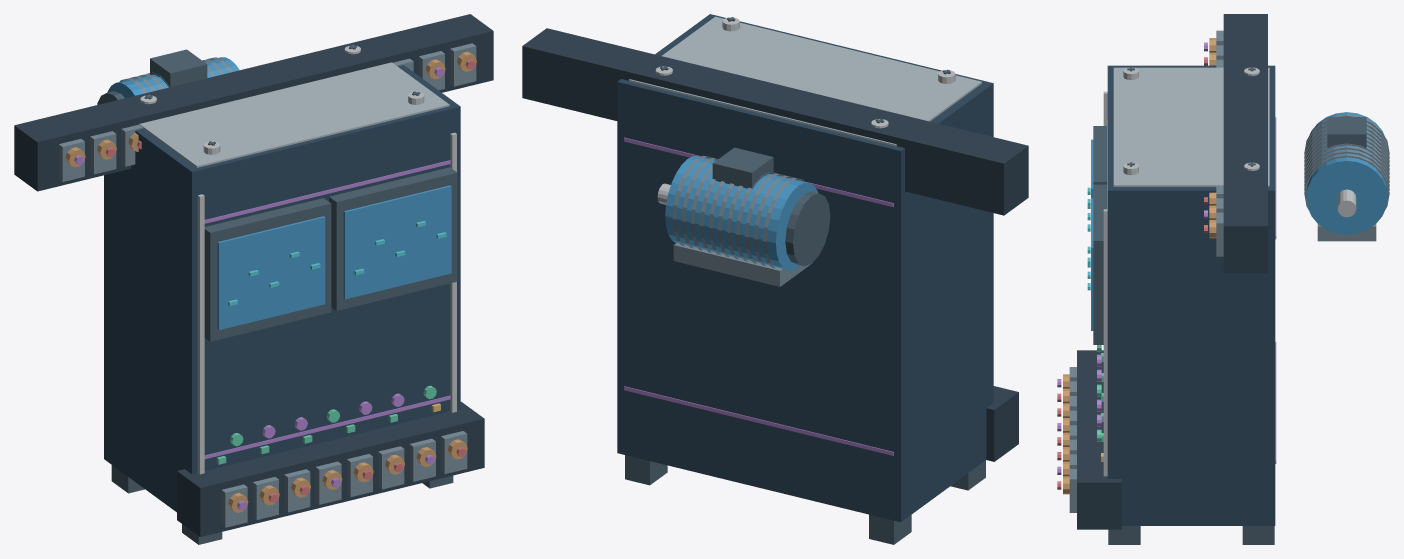
Rendered from 16_L78_CapRFMatchingNetwork.glb.
3 views of the same model, side by side, from view 1: azimuth 30°, elevation 25°; view 2: azimuth 150°, elevation 25°; view 3: azimuth 270°, elevation 25° (orthographic). The views are drawn at different scales.
Parts seen in each view (by area): view 1: CapRFMatchingNetwork_Node_0000, CapRFMatchingNetwork_Node_0007, CapRFMatchingNetwork_Node_0049, CapRFMatchingNetwork_Node_0025, CapRFMatchingNetwork_Node_0080, CapRFMatchingNetwork_Node_0032, CapRFMatchingNetwork_Node_0105, CapRFMatchingNetwork_Node_0024, CapRFMatchingNetwork_Node_0031, CapRFMatchingNetwork_Node_0005, CapRFMatchingNetwork_Node_0145, CapRFMatchingNetwork_Node_0006 (+15 smaller); view 2: CapRFMatchingNetwork_Node_0000, CapRFMatchingNetwork_Node_0080, CapRFMatchingNetwork_Node_0007, CapRFMatchingNetwork_Node_0105, CapRFMatchingNetwork_Node_0130, CapRFMatchingNetwork_Node_0143, CapRFMatchingNetwork_Node_0144, CapRFMatchingNetwork_Node_0049, CapRFMatchingNetwork_Node_0145, CapRFMatchingNetwork_Node_0020, CapRFMatchingNetwork_Node_0045, CapRFMatchingNetwork_Node_0047 (+1 smaller); view 3: CapRFMatchingNetwork_Node_0000, CapRFMatchingNetwork_Node_0007, CapRFMatchingNetwork_Node_0105, CapRFMatchingNetwork_Node_0080, CapRFMatchingNetwork_Node_0049, CapRFMatchingNetwork_Node_0130, CapRFMatchingNetwork_Node_0031, CapRFMatchingNetwork_Node_0006, CapRFMatchingNetwork_Node_0145, CapRFMatchingNetwork_Node_0024, CapRFMatchingNetwork_Node_0144, CapRFMatchingNetwork_Node_0047 (+3 smaller).
Boxes of the visible parts, x1,y1,x2,y2 form: CapRFMatchingNetwork_Node_0000: (104, 65, 460, 512); CapRFMatchingNetwork_Node_0007: (139, 62, 449, 167); CapRFMatchingNetwork_Node_0049: (177, 401, 484, 536); CapRFMatchingNetwork_Node_0025: (217, 216, 325, 329); CapRFMatchingNetwork_Node_0080: (14, 70, 321, 191); CapRFMatchingNetwork_Node_0032: (343, 185, 451, 299); CapRFMatchingNetwork_Node_0105: (186, 14, 493, 106); CapRFMatchingNetwork_Node_0024: (204, 198, 331, 341); CapRFMatchingNetwork_Node_0031: (329, 167, 457, 310); CapRFMatchingNetwork_Node_0005: (197, 194, 204, 474); CapRFMatchingNetwork_Node_0145: (150, 49, 207, 87); CapRFMatchingNetwork_Node_0006: (450, 132, 456, 412); CapRFMatchingNetwork_Node_0000: (617, 14, 993, 522); CapRFMatchingNetwork_Node_0080: (704, 72, 1028, 215); CapRFMatchingNetwork_Node_0007: (629, 16, 981, 146); CapRFMatchingNetwork_Node_0105: (522, 28, 845, 125); CapRFMatchingNetwork_Node_0130: (665, 155, 818, 270); CapRFMatchingNetwork_Node_0143: (785, 191, 830, 266); CapRFMatchingNetwork_Node_0144: (673, 243, 812, 286); CapRFMatchingNetwork_Node_0049: (986, 386, 1018, 461); CapRFMatchingNetwork_Node_0145: (712, 147, 773, 189); CapRFMatchingNetwork_Node_0020: (624, 386, 893, 455); CapRFMatchingNetwork_Node_0045: (869, 514, 911, 544); CapRFMatchingNetwork_Node_0047: (625, 455, 667, 485); CapRFMatchingNetwork_Node_0000: (1107, 65, 1275, 525); CapRFMatchingNetwork_Node_0007: (1113, 67, 1269, 186); CapRFMatchingNetwork_Node_0105: (1223, 94, 1267, 273); CapRFMatchingNetwork_Node_0080: (1223, 14, 1267, 146); CapRFMatchingNetwork_Node_0049: (1077, 350, 1121, 529); CapRFMatchingNetwork_Node_0130: (1306, 112, 1387, 234); CapRFMatchingNetwork_Node_0031: (1093, 184, 1106, 344); CapRFMatchingNetwork_Node_0006: (1103, 209, 1107, 476); CapRFMatchingNetwork_Node_0145: (1327, 117, 1366, 148); CapRFMatchingNetwork_Node_0024: (1093, 126, 1106, 184); CapRFMatchingNetwork_Node_0144: (1317, 224, 1376, 241); CapRFMatchingNetwork_Node_0047: (1242, 526, 1274, 544).
Bounding box in the file's own units: 2.04 × 1.65 × 1.35.
